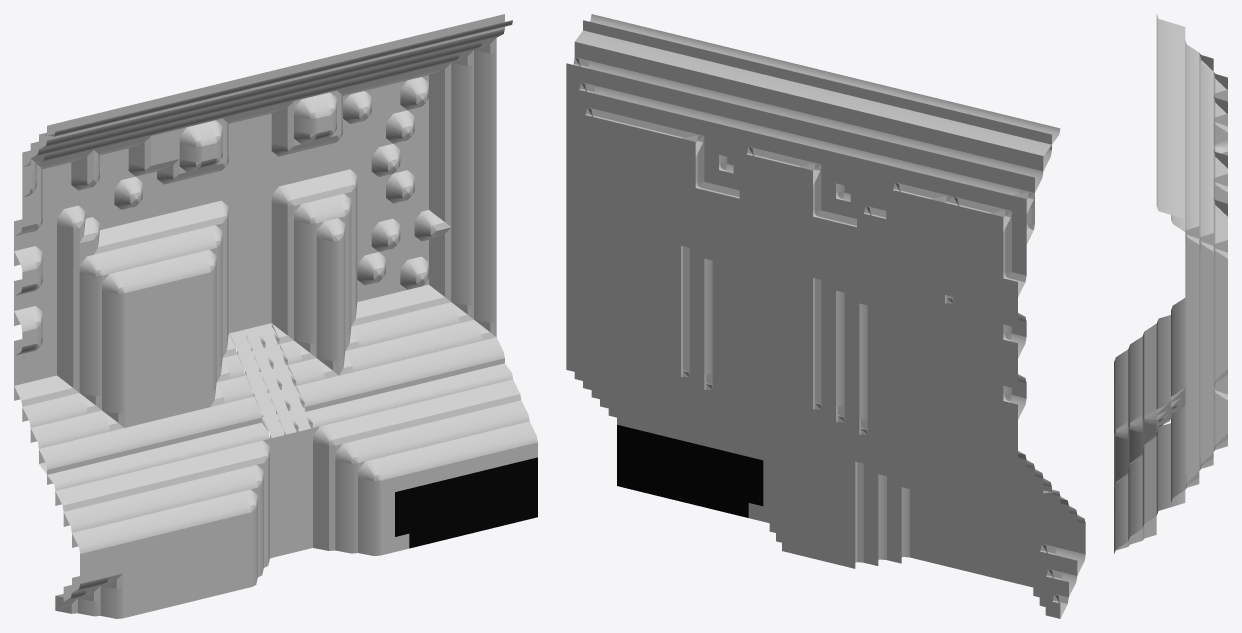
File: Voltic-Cave_02_01.obj
The picture shows the model from 3 angles, left to right: view 1: azimuth 30°, elevation 25°; view 2: azimuth 150°, elevation 25°; view 3: azimuth 270°, elevation 25°; orthographic projection. The views are drawn at different scales.
Visible parts, largest first — view 1: map; view 2: map; view 3: map.
Boxes of the visible parts, x1=… form: map: x1=14, y1=14, x2=537, y2=618; map: x1=566, y1=14, x2=1085, y2=618; map: x1=1114, y1=14, x2=1227, y2=553.
Size of the model in its own units: 32 by 32 by 8.
